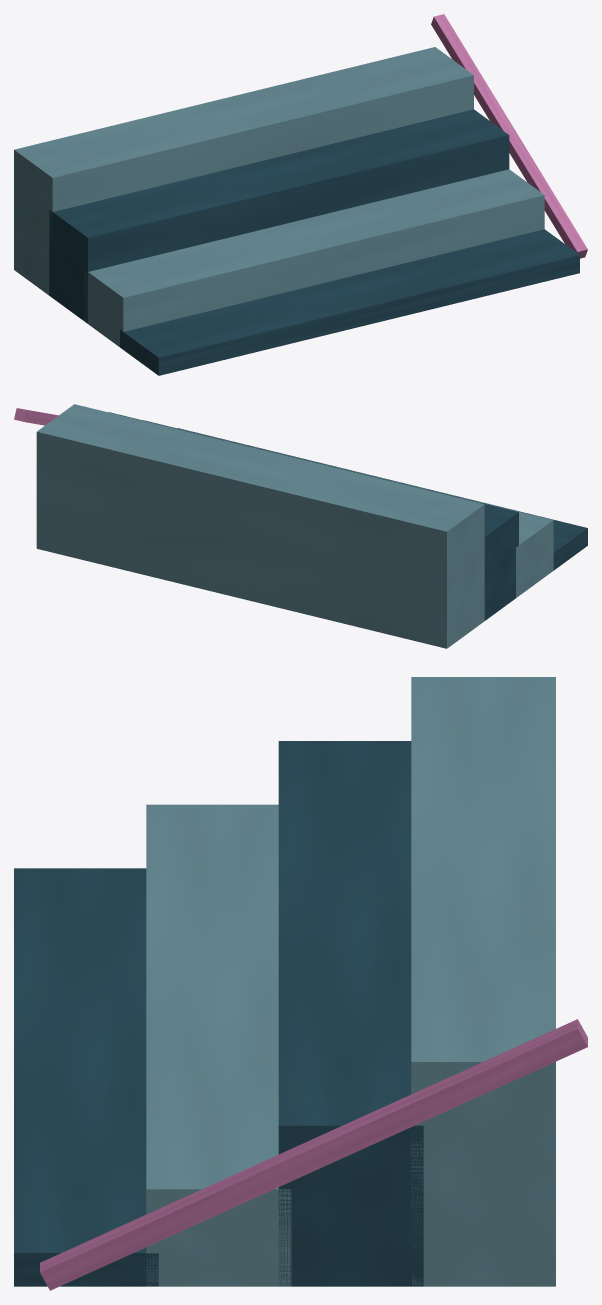
Rendered from atlas100-s061-a10.lod1.glb.
3 views of the same model, one above another, from view 1: azimuth 30°, elevation 25°; view 2: azimuth 150°, elevation 25°; view 3: azimuth 270°, elevation 25° (orthographic). The views are drawn at different scales.
Parts seen in each view (by area): view 1: atlas100-s061-a10:part-003, atlas100-s061-a10:part-002, atlas100-s061-a10:part-001, atlas100-s061-a10:part-000, atlas100-s061-a10:part-005; view 2: atlas100-s061-a10:part-003, atlas100-s061-a10:part-002, atlas100-s061-a10:part-001, atlas100-s061-a10:part-000, atlas100-s061-a10:part-005; view 3: atlas100-s061-a10:part-003, atlas100-s061-a10:part-002, atlas100-s061-a10:part-001, atlas100-s061-a10:part-000, atlas100-s061-a10:part-005.
Boxes of the visible parts, <box> form: atlas100-s061-a10:part-003: <box>14,47,473,295</box>; atlas100-s061-a10:part-002: <box>49,109,509,323</box>; atlas100-s061-a10:part-001: <box>84,169,544,346</box>; atlas100-s061-a10:part-000: <box>120,229,579,375</box>; atlas100-s061-a10:part-005: <box>431,14,587,258</box>; atlas100-s061-a10:part-003: <box>36,404,484,648</box>; atlas100-s061-a10:part-002: <box>108,412,518,620</box>; atlas100-s061-a10:part-001: <box>143,420,553,597</box>; atlas100-s061-a10:part-000: <box>178,428,587,570</box>; atlas100-s061-a10:part-005: <box>14,408,58,425</box>; atlas100-s061-a10:part-003: <box>411,677,555,1286</box>; atlas100-s061-a10:part-002: <box>278,741,423,1286</box>; atlas100-s061-a10:part-001: <box>146,804,291,1286</box>; atlas100-s061-a10:part-000: <box>14,868,158,1286</box>; atlas100-s061-a10:part-005: <box>40,1019,587,1290</box>.
Size of the model in its own units: 2.28 by 0.7246 by 1.39.
Materials: 3 (3 with a texture image).
